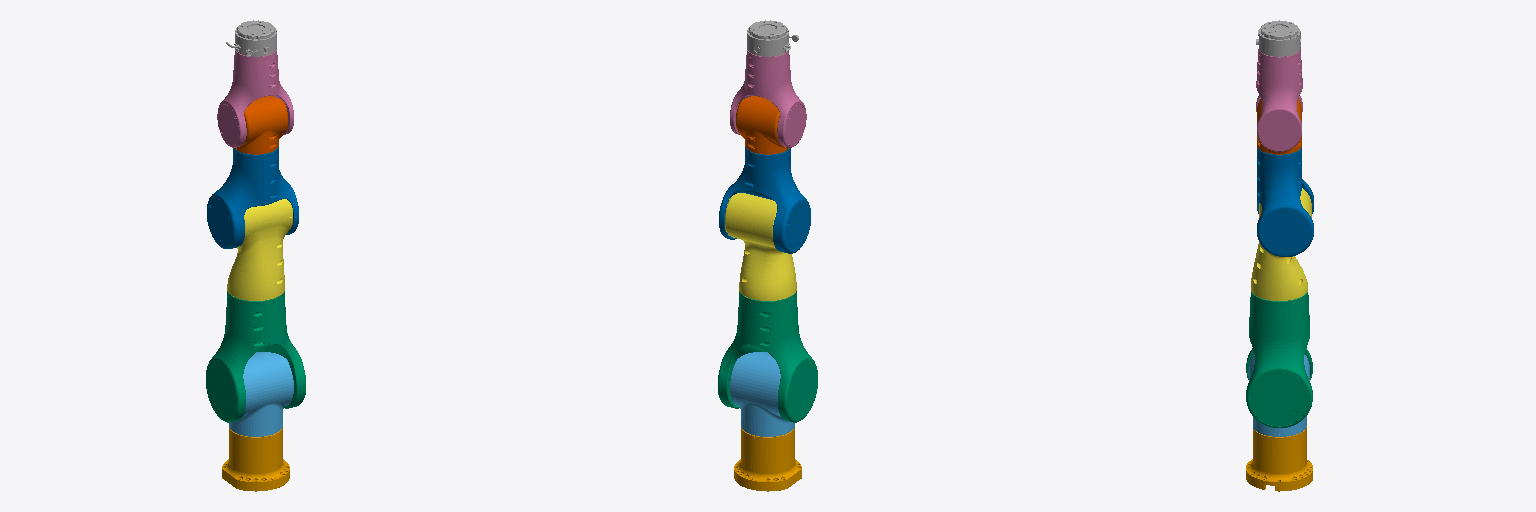
The robot description file, URDF, robot "DobotCR5":
<?xml version="1.0" ?>
<!-- =================================================================================== -->
<!-- |    This document was autogenerated by xacro from robot.xacro                    | -->
<!-- |    EDITING THIS FILE BY HAND IS NOT RECOMMENDED                                 | -->
<!-- =================================================================================== -->
<robot name="DobotCR5">
  <!-- Arm Base Link -->
  <link name="base_link">
    <inertial>
      <mass value="2.4"/>
      <inertia ixx="0.00397965" ixy="0.00000303" ixz="0.00000035" iyy="0.00315361" iyz="0.00002442" izz="0.00357979"/>
      <origin xyz="2.6805e-05 0.0011749210000000002 0.171179958"/>
    </inertial>
    <visual>
      <geometry>
        <mesh filename="package://rokae_ar5_description/meshes/base.obj" scale="1 -1 1"/>
      </geometry>
    </visual>
    <collision>
      <geometry>
        <mesh filename="package://rokae_ar5_description/meshes/base.obj" scale="1 -1 1"/>
      </geometry>
    </collision>
  </link>
  <!-- Joint 1 -->
  <joint name="joint1" type="revolute">
    <parent link="base_link"/>
    <child link="link1"/>
    <limit effort="108" lower="-3.1414" upper="3.1414" velocity="3.9269908169872414"/>
    <axis xyz="0 0 1"/>
    <origin rpy="0 0 -1.5708" xyz="0.0 0.0 0.1745"/>
  </joint>
  <!-- Arm Link 1 -->
  <link name="link1">
    <inertial>
      <mass value="2.4"/>
      <inertia ixx="0.00397965" ixy="0.00000303" ixz="0.00000035" iyy="0.00315361" iyz="0.00002442" izz="0.00357979"/>
      <origin xyz="2.6805e-05 0.0011749210000000002 0.171179958"/>
    </inertial>
    <visual>
      <geometry>
        <mesh filename="package://rokae_ar5_description/meshes/link1.obj" scale="1 -1 1"/>
      </geometry>
    </visual>
    <collision>
      <geometry>
        <mesh filename="package://rokae_ar5_description/meshes/link1.obj" scale="1 -1 1"/>
      </geometry>
    </collision>
  </link>
  <!-- Joint 2 -->
  <joint name="joint2" type="revolute">
    <parent link="link1"/>
    <child link="link2"/>
    <limit effort="108" lower="-2.1293" upper="2.1293" velocity="3.9269908169872414"/>
    <axis xyz="0 -1 0"/>
  </joint>
  <!-- Arm Link 2 -->
  <link name="link2">
    <inertial>
      <mass value="2.26"/>
      <inertia ixx="0.00998456" ixy="0.00000011" ixz="-0.00000049" iyy="0.00864243" iyz="0.00070944" izz="0.00397909"/>
      <origin xyz="1.0382e-05 -0.003330598 0.100666568"/>
    </inertial>
    <visual>
      <geometry>
        <mesh filename="package://rokae_ar5_description/meshes/link2.obj" scale="1 -1 1"/>
      </geometry>
    </visual>
    <collision>
      <geometry>
        <mesh filename="package://rokae_ar5_description/meshes/link2.obj" scale="1 -1 1"/>
      </geometry>
    </collision>
  </link>
  <!-- Joint 3 -->
  <joint name="joint3" type="revolute">
    <parent link="link2"/>
    <child link="link3"/>
    <limit effort="66" lower="-3.1416" upper="3.1416" velocity="5.235987755982989"/>
    <axis xyz="0 0 1"/>
    <origin rpy="0 0 3.1415926535" xyz="0.0 0.0 0.305"/>
  </joint>
  <!-- Arm Link 3 -->
  <link name="link3">
    <inertial>
      <mass value="1.85"/>
      <inertia ixx="0.00514901" ixy="0.00000705" ixz="0.00033523" iyy="0.00455840" iyz="0.00005313" izz="0.00249866"/>
      <origin xyz="0.007574792 0.001848523 -0.017501298"/>
    </inertial>
    <visual>
      <geometry>
        <mesh filename="package://rokae_ar5_description/meshes/link3.obj" scale="1 -1 1"/>
      </geometry>
    </visual>
    <collision>
      <geometry>
        <mesh filename="package://rokae_ar5_description/meshes/link3.obj" scale="1 -1 1"/>
      </geometry>
    </collision>
  </link>
  <!-- Joint 4 -->
  <joint name="joint4" type="revolute">
    <parent link="link3"/>
    <child link="link4"/>
    <limit effort="66" lower="-1.3963" upper="2.5307" velocity="5.235987755982989"/>
    <axis xyz="0 1 0"/>
    <origin xyz="0.01 0.0 0.0"/>
  </joint>
  <!-- Arm Link 4 -->
  <link name="link4">
    <inertial>
      <mass value="1.19"/>
      <inertia ixx="0.00358515" ixy="-0.00005009" ixz="-0.00016645" iyy="0.00288820" iyz="0.00041392" izz="0.00173347"/>
      <origin xyz="-0.007943048 -0.005043471 0.070013368"/>
    </inertial>
    <visual>
      <geometry>
        <mesh filename="package://rokae_ar5_description/meshes/link4.obj" scale="1 -1 1"/>
      </geometry>
    </visual>
    <collision>
      <geometry>
        <mesh filename="package://rokae_ar5_description/meshes/link4.obj" scale="1 -1 1"/>
      </geometry>
    </collision>
  </link>
  <!-- Joint 5 -->
  <joint name="joint5" type="revolute">
    <parent link="link4"/>
    <child link="link5"/>
    <limit effort="19" lower="-3.1416" upper="3.1416" velocity="4.1887902047863905"/>
    <axis xyz="0 0 1"/>
    <origin xyz="-0.01 0.0 0.179"/>
  </joint>
  <!-- Arm Link 5 -->
  <link name="link5">
    <inertial>
      <mass value="0.95"/>
      <inertia ixx="0.00094370" ixy="0.00000057" ixz="0.00000060" iyy="0.00071483" iyz="0.00000919" izz="0.00086730"/>
      <origin xyz="1.2128e-05 0.001731178 -0.0026525620000000002"/>
    </inertial>
    <visual>
      <geometry>
        <mesh filename="package://rokae_ar5_description/meshes/link5.obj" scale="1 -1 1"/>
      </geometry>
    </visual>
    <collision>
      <geometry>
        <mesh filename="package://rokae_ar5_description/meshes/link5.obj" scale="1 -1 1"/>
      </geometry>
    </collision>
  </link>
  <!-- Joint 6 -->
  <joint name="joint6" type="revolute">
    <parent link="link5"/>
    <child link="link6"/>
    <limit effort="19" lower="-1.9722" upper="1.9722" velocity="4.1887902047863905"/>
    <axis xyz="0 1 0"/>
  </joint>
  <!-- Arm Link 6 -->
  <link name="link6">
    <inertial>
      <mass value="1.06"/>
      <inertia ixx="0.00230759" ixy="-0.00000067" ixz="0.00000072" iyy="0.00195677" iyz="0.00018711" izz="0.00103394"/>
      <origin xyz="-5.3371e-05 -0.0023381310000000002 0.07615395800000001"/>
    </inertial>
    <visual>
      <geometry>
        <mesh filename="package://rokae_ar5_description/meshes/link6.obj" scale="1 -1 1"/>
      </geometry>
    </visual>
    <collision>
      <geometry>
        <mesh filename="package://rokae_ar5_description/meshes/link6.obj" scale="1 -1 1"/>
      </geometry>
    </collision>
  </link>
  <!-- Joint 7 -->
  <joint name="joint7" type="revolute">
    <parent link="link6"/>
    <child link="link7"/>
    <limit effort="19" lower="-3.1416" upper="3.1416" velocity="4.1887902047863905"/>
    <axis xyz="0 0 1"/>
    <origin xyz="0.0 0.0 0.166"/>
  </joint>
  <!-- Arm Link 7 -->
  <link name="link7">
    <inertial>
      <mass value="0.18"/>
      <inertia ixx="0.00009976" ixy="0.00000139" ixz="0.00000025" iyy="0.00009671" iyz="0.00000036" izz="0.00014828"/>
      <origin xyz="-0.000158025 3.6244e-05 -0.017928215"/>
    </inertial>
    <visual>
      <geometry>
        <mesh filename="package://rokae_ar5_description/meshes/link7.obj" scale="1 -1 1"/>
      </geometry>
    </visual>
    <collision>
      <geometry>
        <mesh filename="package://rokae_ar5_description/meshes/link7.obj" scale="1 -1 1"/>
      </geometry>
    </collision>
  </link>
</robot>

--- Render facts (derived) ---
Views: 3 orthographic renders of the robot side by side, from view 1: azimuth 30°, elevation 25°; view 2: azimuth 150°, elevation 25°; view 3: azimuth 270°, elevation 25°.
Model DobotCR5 with 8 links and 7 joints (7 revolute), rooted at base_link, posed every joint at zero.
Links seen in each view (by area): view 1: link2, link4, link3, link1, link6, base_link, link5, link7; view 2: link2, link3, link4, link1, link6, base_link, link5, link7; view 3: link2, link4, link6, base_link, link3, link7, link1.
Boxes of the visible links, <box> form: link2: <box>206,291,305,422</box>; link4: <box>207,146,298,248</box>; link3: <box>227,199,292,300</box>; link1: <box>229,352,293,436</box>; link6: <box>217,50,293,147</box>; base_link: <box>222,428,289,491</box>; link5: <box>235,96,287,154</box>; link7: <box>226,20,276,56</box>; link2: <box>718,291,817,422</box>; link3: <box>725,193,796,300</box>; link4: <box>719,146,810,253</box>; link1: <box>730,352,794,436</box>; link6: <box>730,50,806,147</box>; base_link: <box>734,428,801,491</box>; link5: <box>736,96,788,154</box>; link7: <box>747,20,798,56</box>; link2: <box>1246,292,1312,427</box>; link4: <box>1257,147,1313,256</box>; link6: <box>1256,49,1302,151</box>; base_link: <box>1246,426,1312,491</box>; link3: <box>1251,188,1311,300</box>; link7: <box>1256,20,1300,56</box>; link1: <box>1249,355,1309,436</box>.
Bounding box of the posed robot: 0.134 × 0.1145 × 0.8245 m (x, y, z).
Meshes: 8 distinct files referenced, 8 mesh visuals loaded (8 OBJ).